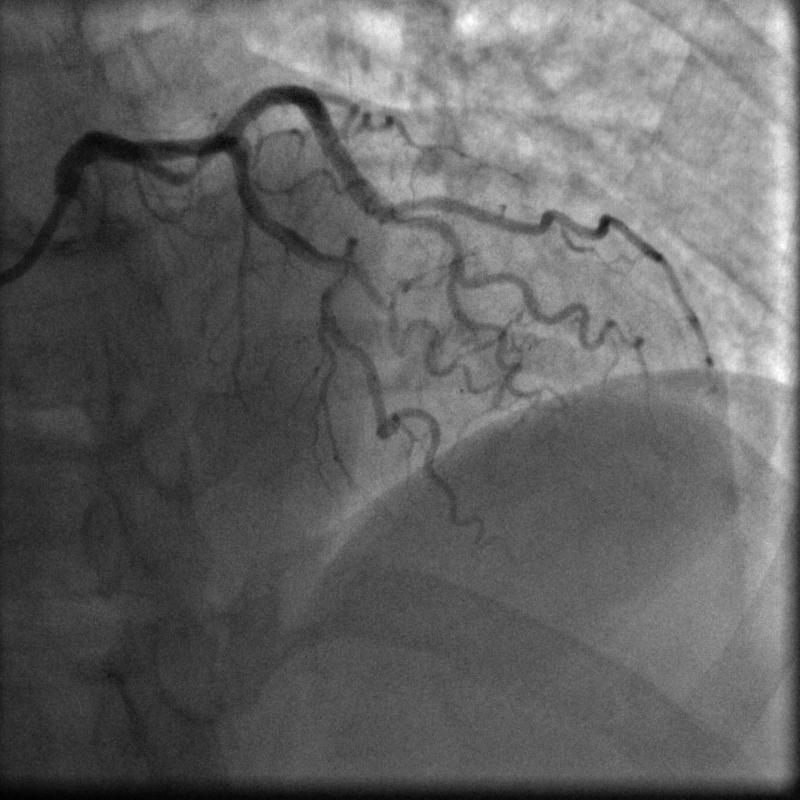Stenosis: (166, 147, 212, 178)
